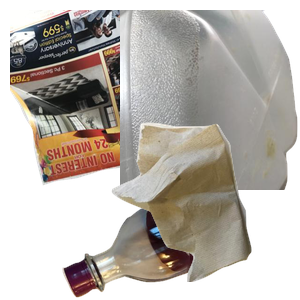glass: (60, 180, 300, 300)
paper: (10, 10, 241, 188)
plastic: (120, 10, 300, 190)
trash: (109, 120, 300, 300)
